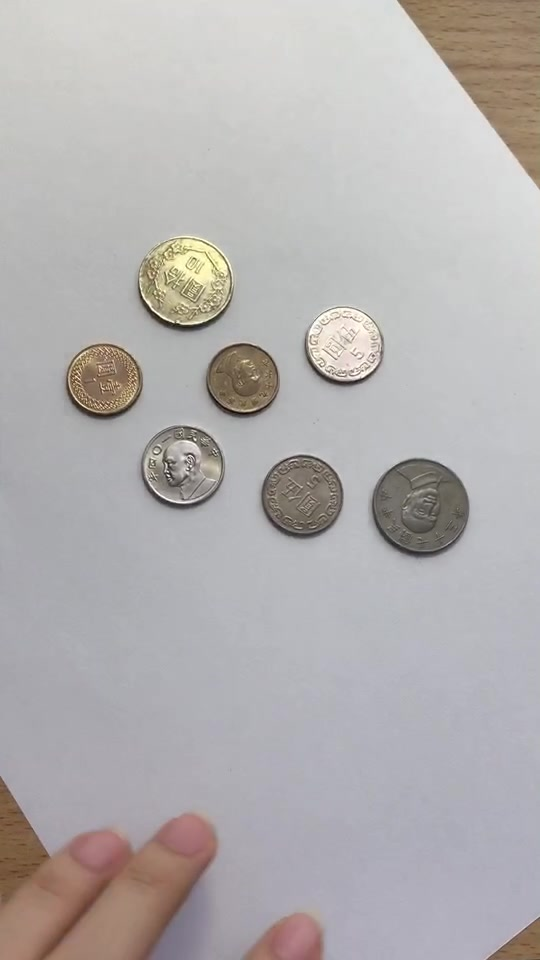1 dallar: (60, 339, 147, 420), (198, 336, 285, 417)
10 dallar: (368, 456, 476, 560), (130, 231, 238, 331)
5 dallar: (138, 422, 226, 510), (257, 451, 345, 539), (299, 303, 387, 391)
